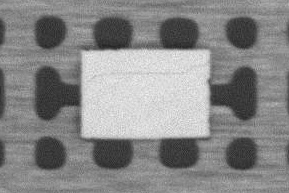DIE_CRACK: (88, 63, 208, 83)
